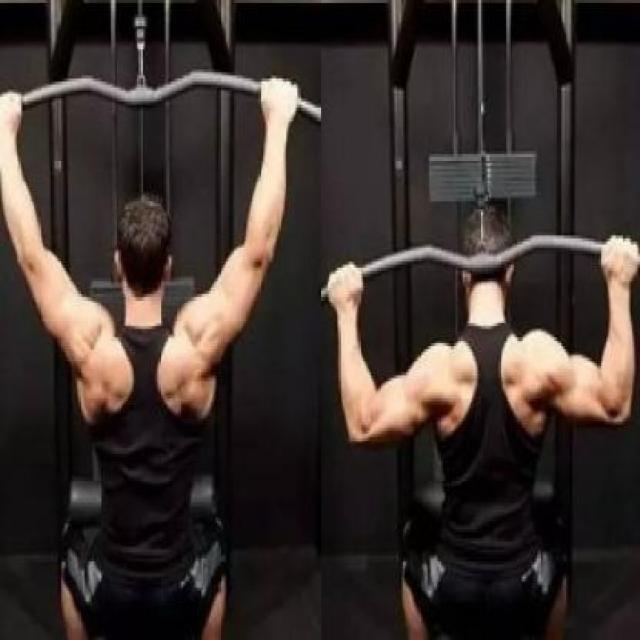Lat Pull Down: (0, 0, 323, 640), (320, 0, 640, 640)
